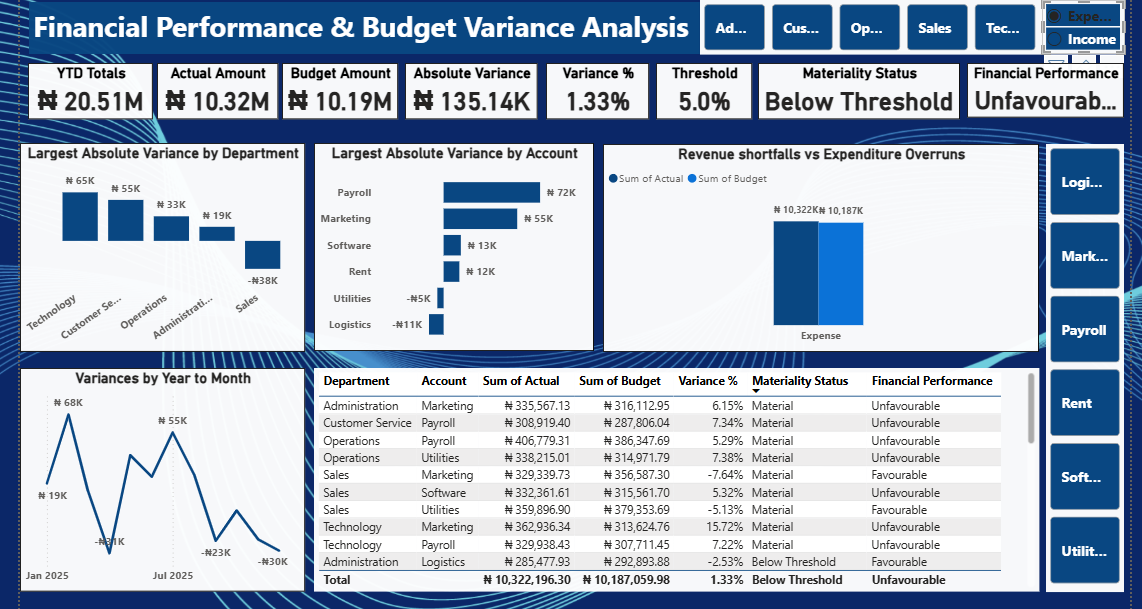

The dashboard page shown, as its layout file describes it:
{"tool":"powerbi","page":{"name":"Page 1","canvas":[1280,720],"ordinal":0},"visuals":[{"type":"card","title":"Actual  Amount","fields":{"Values":["Sum(dataset_raw.Actual)"]},"box":[158.1,83.1,139.6,64.6],"z":0},{"type":"card","title":"Budget  Amount","fields":{"Values":["Sum(dataset_raw.Budget)"]},"box":[302.3,83.1,133.8,64.6],"z":1000},{"type":"card","title":"Absolute Variance","fields":{"Values":["dataset_raw.Absolute Variance"]},"box":[444.2,83.1,153.5,64.6],"z":2000},{"type":"card","title":" Variance %","fields":{"Values":["dataset_raw.Variance %"]},"box":[606.9,83.1,118.8,64.6],"z":3000},{"type":"clusteredBarChart","title":"Largest Absolute Variance by Account","fields":{"Category":["dataset_raw.Account"],"Y":["dataset_raw.Absolute Variance"]},"box":[339.2,175.4,323.1,240],"z":4000},{"type":"clusteredColumnChart","title":"Largest Absolute Variance by Department","fields":{"Category":["dataset_raw.Department"],"Y":["dataset_raw.Absolute Variance"]},"box":[0,175.4,328.8,241.2],"z":5000},{"type":"clusteredColumnChart","title":"Revenue shortfalls vs Expenditure Overruns","fields":{"Category":["dataset_raw.Type"],"Y":["Sum(dataset_raw.Actual)","Sum(dataset_raw.Budget)"]},"box":[672.7,176.5,503.1,240],"z":6000},{"type":"lineChart","title":"Variances by Year to Month","fields":{"Category":["dataset_raw.Period.Variation.Date Hierarchy.Year","dataset_raw.Period.Variation.Date Hierarchy.Month","dataset_raw.Period.Variation.Date Hierarchy.Day"],"Y":["dataset_raw.Absolute Variance"]},"box":[0,435,328.8,258.5],"z":7000},{"type":"textbox","box":[10.4,12.7,774.2,60],"z":8000},{"type":"advancedSlicerVisual","fields":{"Values":["dataset_raw.Department"]},"box":[784.6,10.4,394.6,63.5],"z":9000},{"type":"listSlicer","fields":{"Values":["dataset_raw.Type"]},"box":[1179.8,10.3,95.1,63],"z":10000},{"type":"card","title":"Threshold","fields":{"Values":["dataset_raw.Materiality Threshold"]},"box":[733.8,83.1,110.8,64.6],"z":11000},{"type":"card","title":"Financial Performance","fields":{"Values":["dataset_raw.Favourable Unfavourable KPI"]},"box":[1092.7,83.1,181.2,63.5],"z":12000},{"type":"advancedSlicerVisual","fields":{"Values":["dataset_raw.Account"]},"box":[1183.8,176.5,90,516.9],"z":13000},{"type":"card","title":"Materiality Status","fields":{"Values":["dataset_raw.Materiality Status"]},"box":[851.5,83.1,233.1,64.6],"z":14000},{"type":"tableEx","fields":{"Values":["dataset_raw.Department","dataset_raw.Account","Sum(dataset_raw.Actual)","Sum(dataset_raw.Budget)","dataset_raw.Variance %","dataset_raw.Materiality Status","dataset_raw.Favourable Unfavourable KPI"]},"box":[339.2,435,836.5,258.5],"z":15000},{"type":"card","title":"YTD Totals","fields":{"Values":["dataset_raw.YTD Total"]},"box":[9.2,83.1,144.2,64.6],"z":16000}]}

Visuals, with their boxes in screenshot pixels (x1, y1, x2, y2):
"Actual  Amount" card: pyautogui.locateOnScreen(155, 60, 276, 116)
"Budget  Amount" card: pyautogui.locateOnScreen(280, 60, 395, 116)
"Absolute Variance" card: pyautogui.locateOnScreen(402, 60, 535, 116)
" Variance %" card: pyautogui.locateOnScreen(543, 60, 646, 116)
"Largest Absolute Variance by Account" clusteredBarChart: pyautogui.locateOnScreen(311, 140, 591, 348)
"Largest Absolute Variance by Department" clusteredColumnChart: pyautogui.locateOnScreen(18, 140, 302, 349)
"Revenue shortfalls vs Expenditure Overruns" clusteredColumnChart: pyautogui.locateOnScreen(600, 141, 1036, 349)
"Variances by Year to Month" lineChart: pyautogui.locateOnScreen(18, 365, 302, 588)
textbox: pyautogui.locateOnScreen(27, 0, 697, 51)
advancedSlicerVisual - dataset_raw.Department: pyautogui.locateOnScreen(697, 0, 1039, 52)
listSlicer - dataset_raw.Type: pyautogui.locateOnScreen(1039, 0, 1122, 52)
"Threshold" card: pyautogui.locateOnScreen(653, 60, 749, 116)
"Financial Performance" card: pyautogui.locateOnScreen(964, 60, 1121, 115)
advancedSlicerVisual - dataset_raw.Account: pyautogui.locateOnScreen(1043, 141, 1121, 588)
"Materiality Status" card: pyautogui.locateOnScreen(755, 60, 957, 116)
tableEx - dataset_raw.Department x dataset_raw.Account: pyautogui.locateOnScreen(311, 365, 1036, 588)
"YTD Totals" card: pyautogui.locateOnScreen(26, 60, 151, 116)
